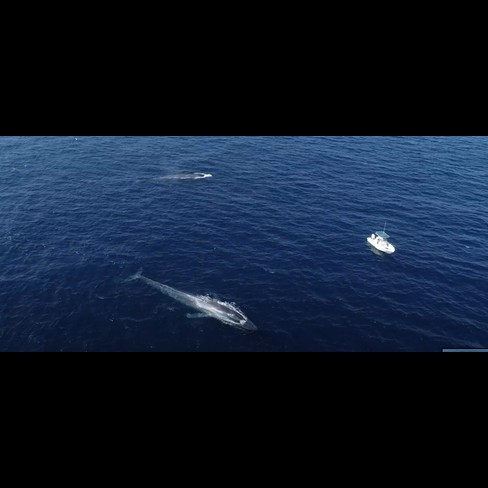bluewhale: (121, 262, 260, 337), (157, 167, 216, 186)
boat: (367, 225, 398, 260)
